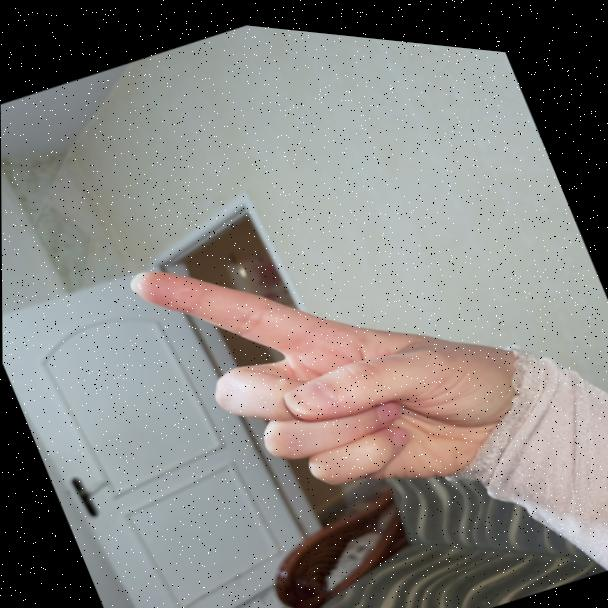one: (114, 143, 529, 574)
